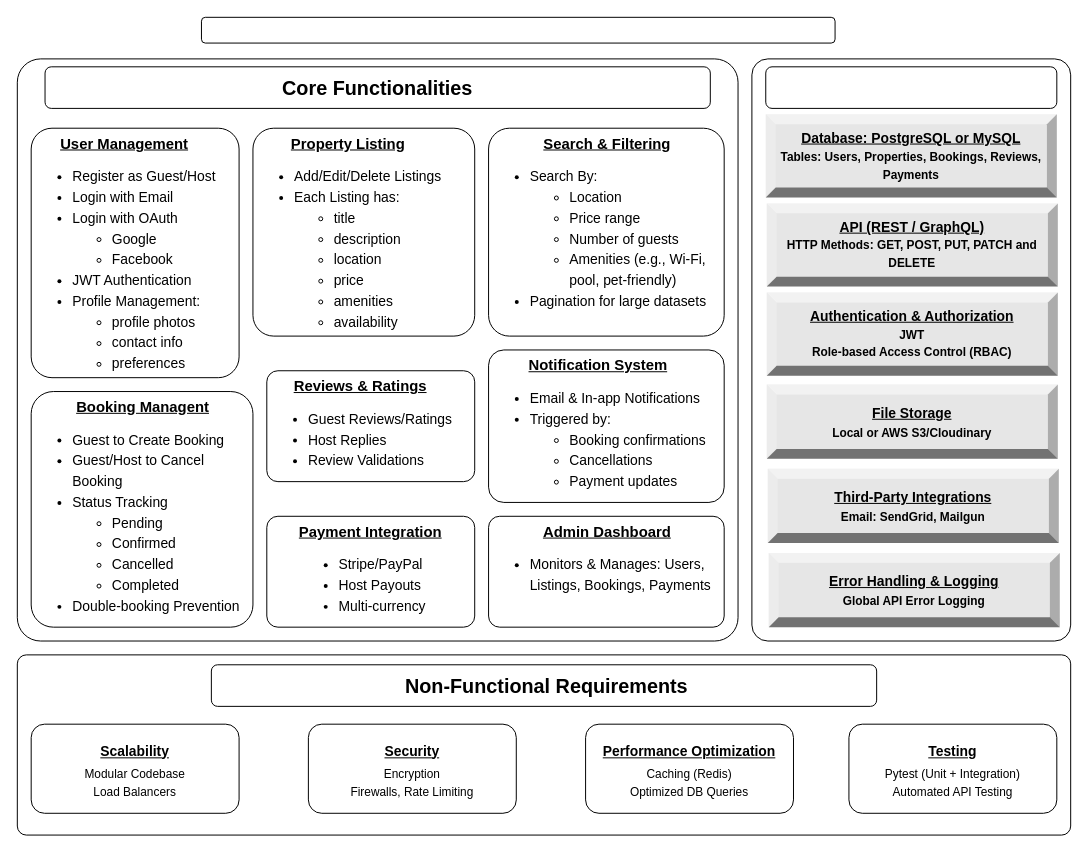
The diagram is 1088 pixels wide and 852 high, and some of its shapes have lost their labels. Here are the shapes that lost their labels. From the top down, the box of each, then its label:
(200, 16, 835, 43): Airbnb Clone – Backend Functional Requirements
(765, 66, 1057, 108): Tenchnical Requirements
